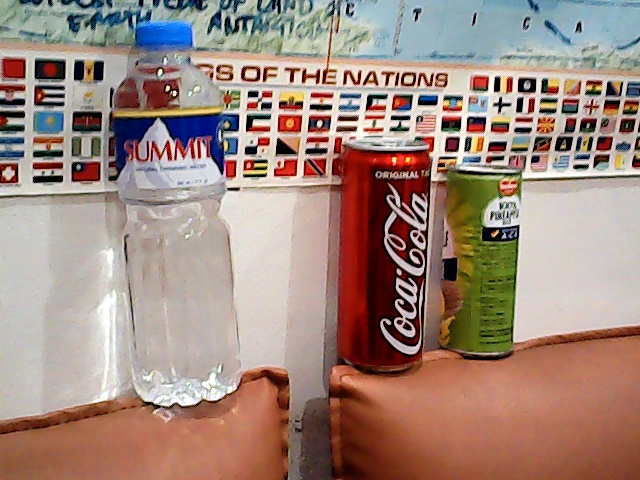Cola: (341, 133, 433, 375)
Pine Juice: (441, 157, 523, 363)
Summit Water: (100, 22, 251, 391)
